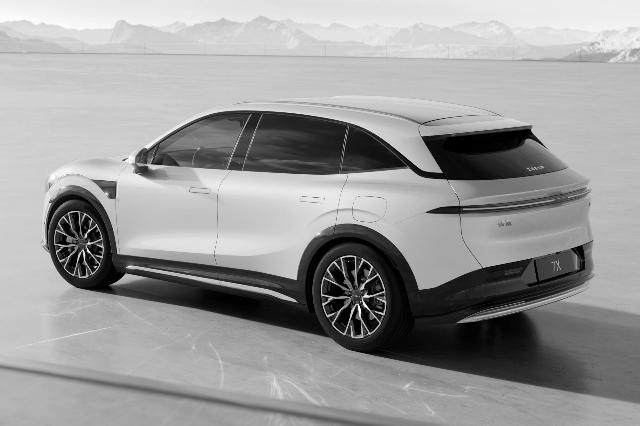suv: (28, 80, 606, 354)
